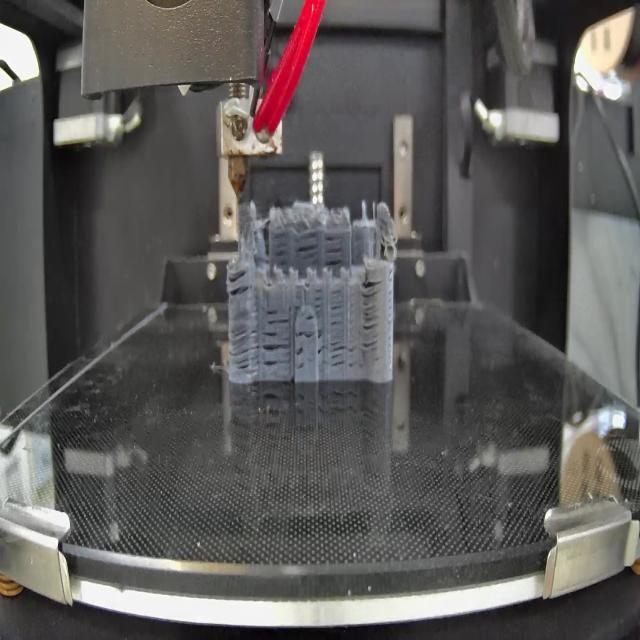cracks: (228, 311, 260, 371), (362, 276, 383, 358), (262, 330, 290, 376), (332, 336, 358, 370), (227, 264, 253, 297), (297, 230, 319, 263), (324, 232, 344, 267), (328, 290, 343, 327), (276, 234, 292, 267), (266, 308, 290, 327), (317, 327, 327, 369), (293, 282, 303, 311), (312, 287, 324, 311), (294, 346, 305, 372), (295, 329, 317, 339), (305, 313, 315, 321)
